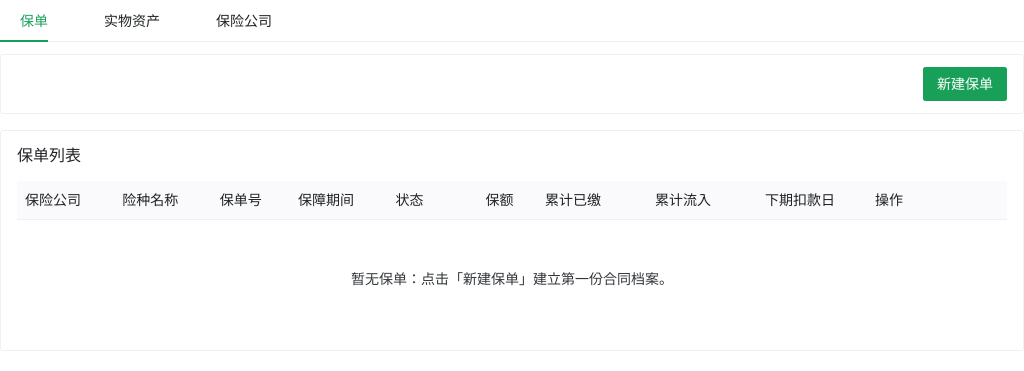
GroupMoreView 组内「更多」容器（issue #472 / ADR-0063 决策 1/5：页签序 = 收纳清单序） › 点击「实物资产」页签：路由 query.tab replace 写回且合计卡可见
This screenshot has width=1024, height=371.
Click the element with class "n-tabs-tab" showing "实物资产". click: point(132, 20)
box: [104,11,160,30]
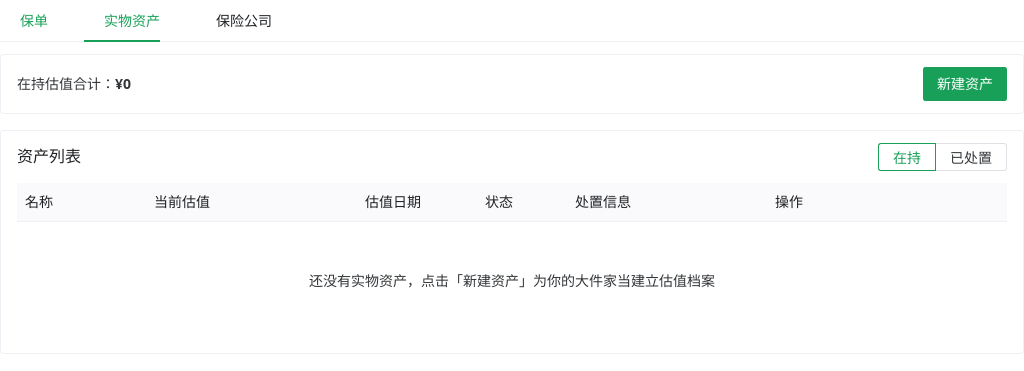
Expected: the text "在持估值合计" is shown, [17,74,115,93]
